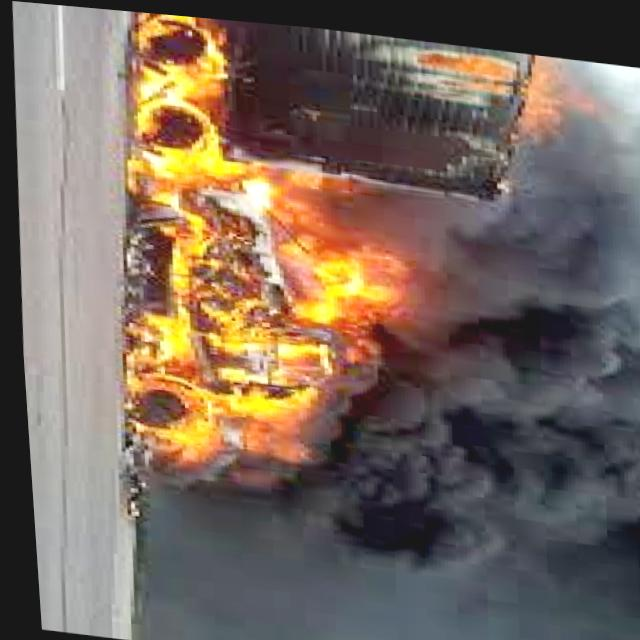helmet: (116, 8, 419, 479)
no_helmet: (312, 90, 640, 606), (124, 452, 640, 640)
